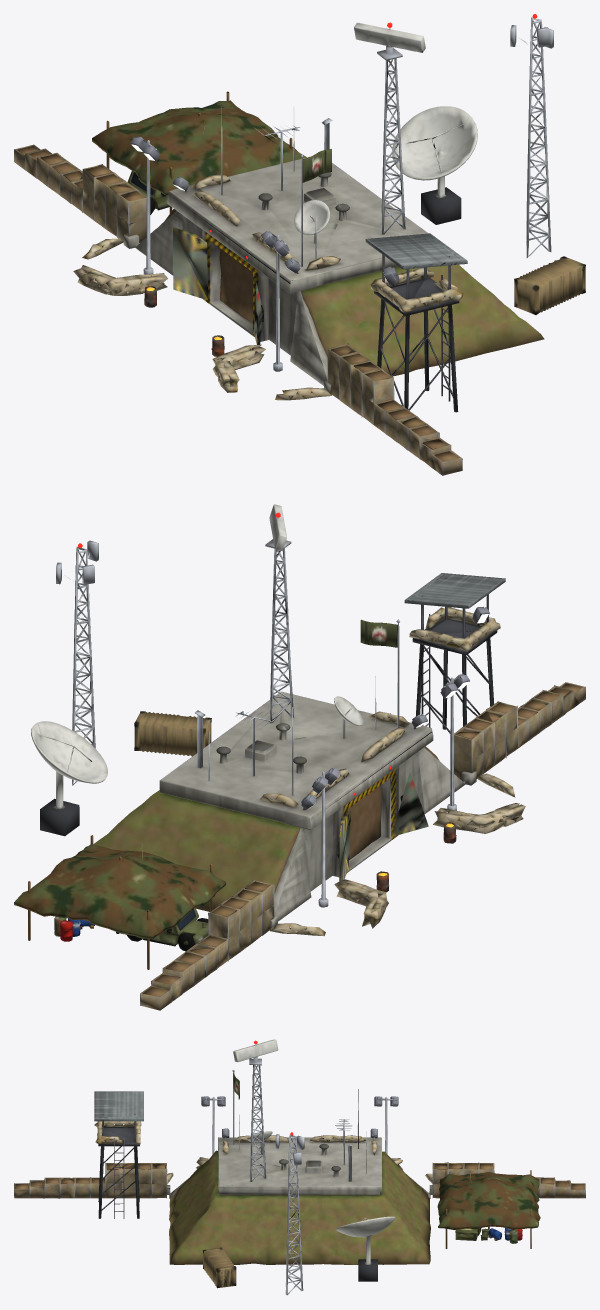
The model's file is modern_city.glb.
3 views of the same model, one above another, from view 1: azimuth 30°, elevation 25°; view 2: azimuth 150°, elevation 25°; view 3: azimuth 270°, elevation 25° (orthographic). The views are drawn at different scales.
Parts seen in each view (by area): view 1: City; view 2: City; view 3: City.
Boxes of the visible parts, x1,y1,x2,y2 form: City: (14,14,585,475); City: (14,504,585,1010); City: (14,1039,585,1295).
Size of the model in its own units: 7.69 by 5.35 by 14.23.
5 materials, 1 textured.
